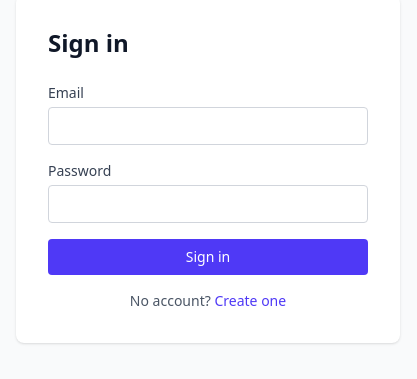
Test: LoginPage › shows error message on failed login
Type "a@b.com" into the field labelled "Email" at coordinates (208, 126), box [48,107,368,145]
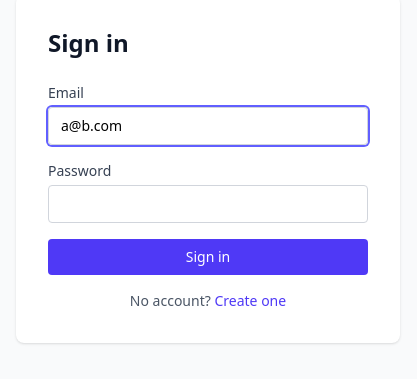
Type "wrongpass" into the password field labelled "Password" at coordinates (208, 204), box [48,185,368,223]
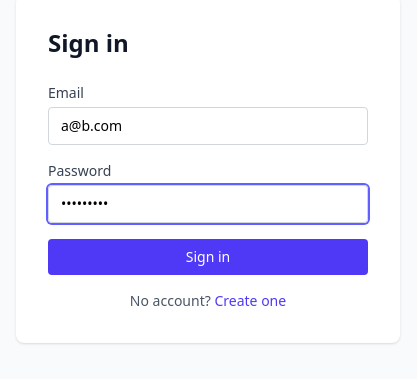
Click the button "Sign in" at coordinates (208, 257), box [48,239,368,275]
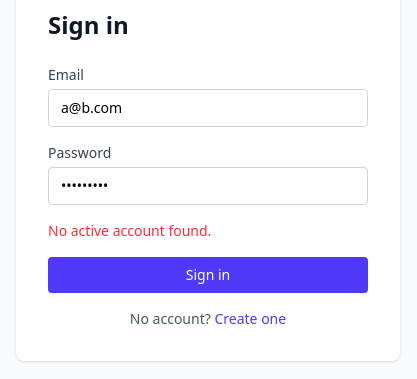
Expected: the text "No active account found." is shown, [48,221,211,240]
